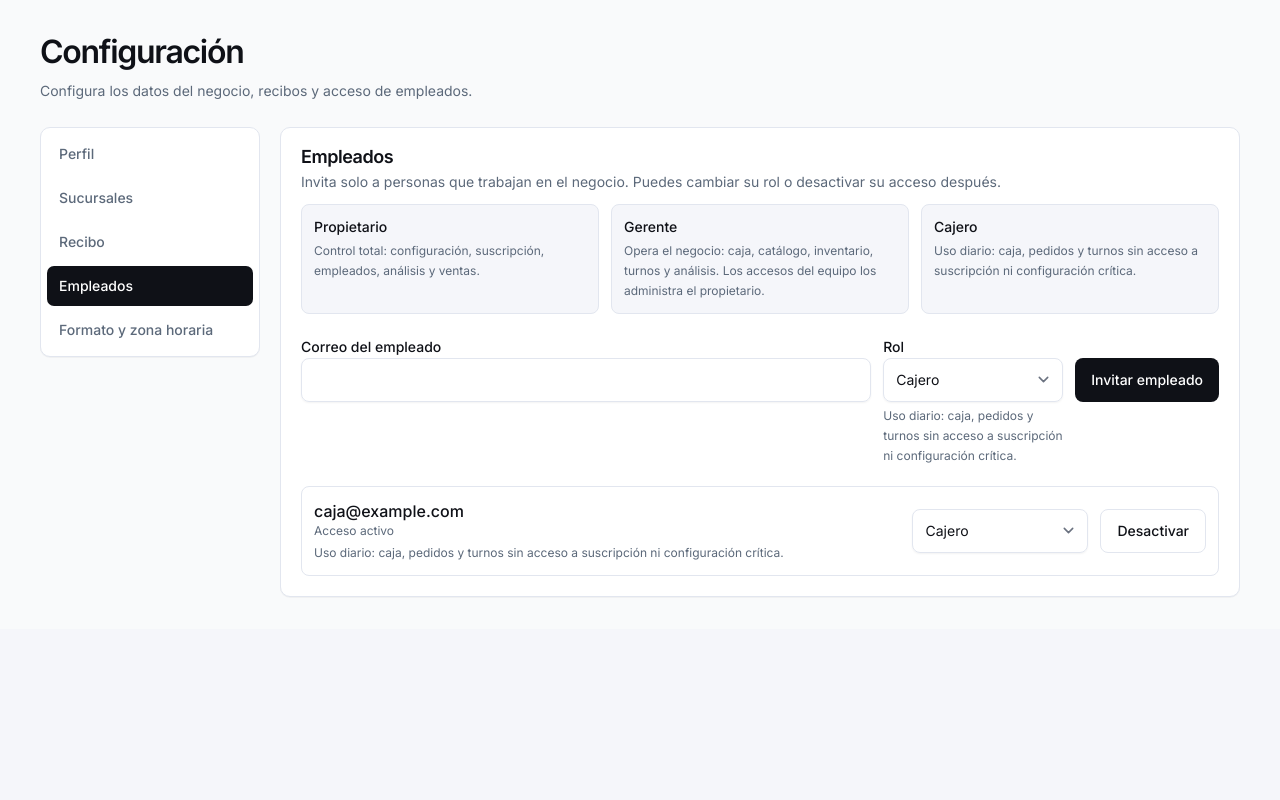
SettingsView business logo placement › names each employee role selector and confirms a named role change
Expected: the dropdown labelled "Rol" is shown, [883, 358, 1063, 402]
Select "Gerente" in the dropdown named "Rol de caja@example.com": {"x": 1000, "y": 531} [912, 509, 1088, 553]
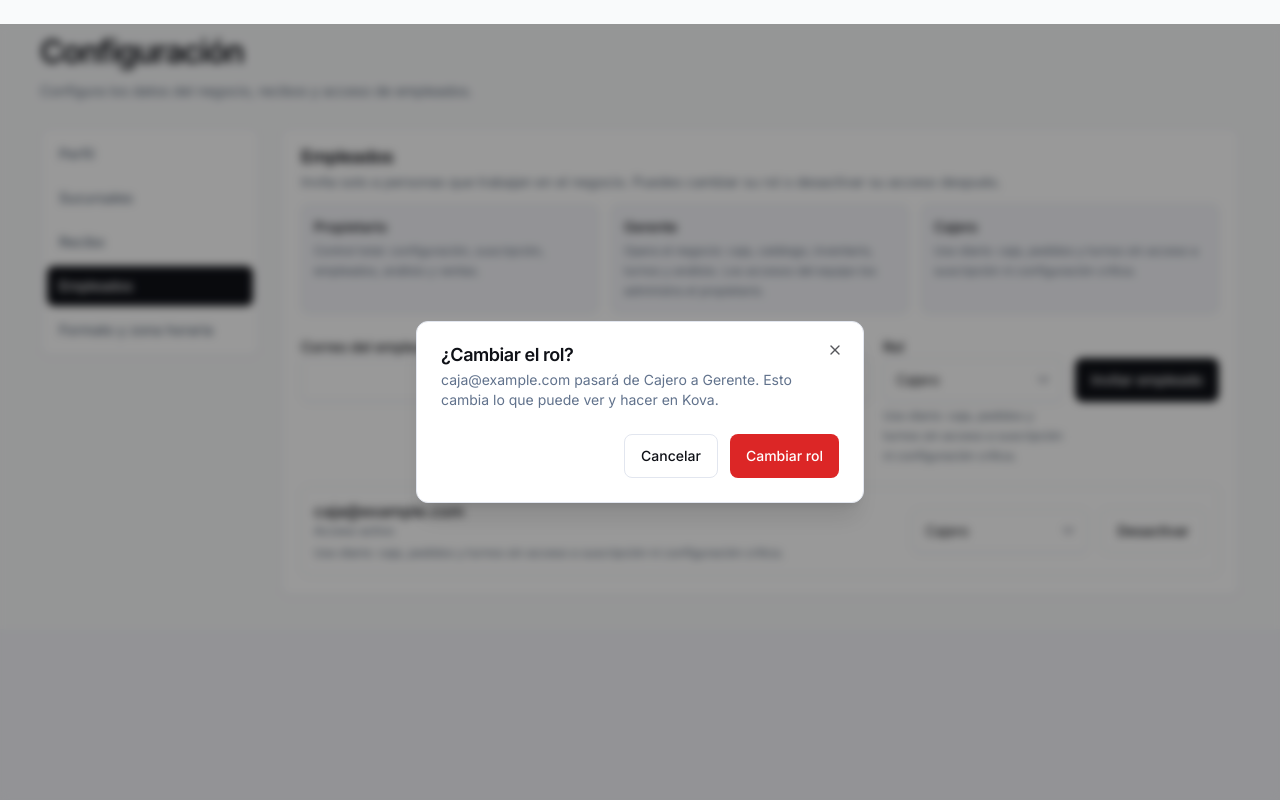
Now the dialog "¿Cambiar el rol?" is shown, box [416, 321, 864, 503]
